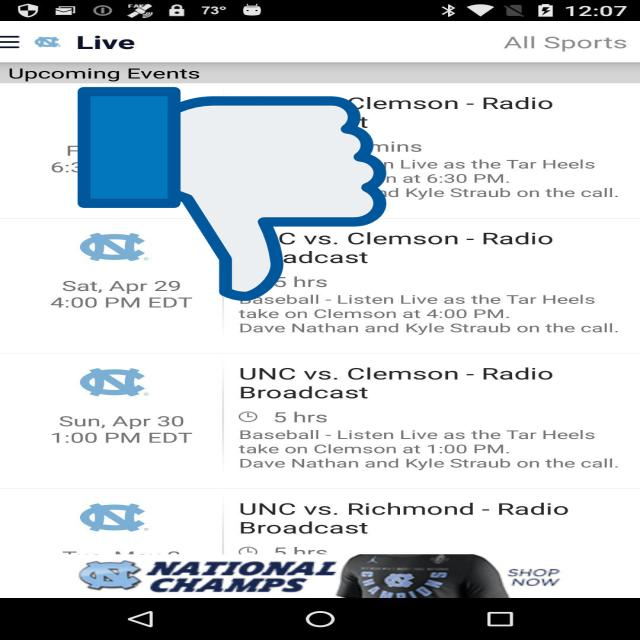obstruction: (78, 82, 386, 306)
